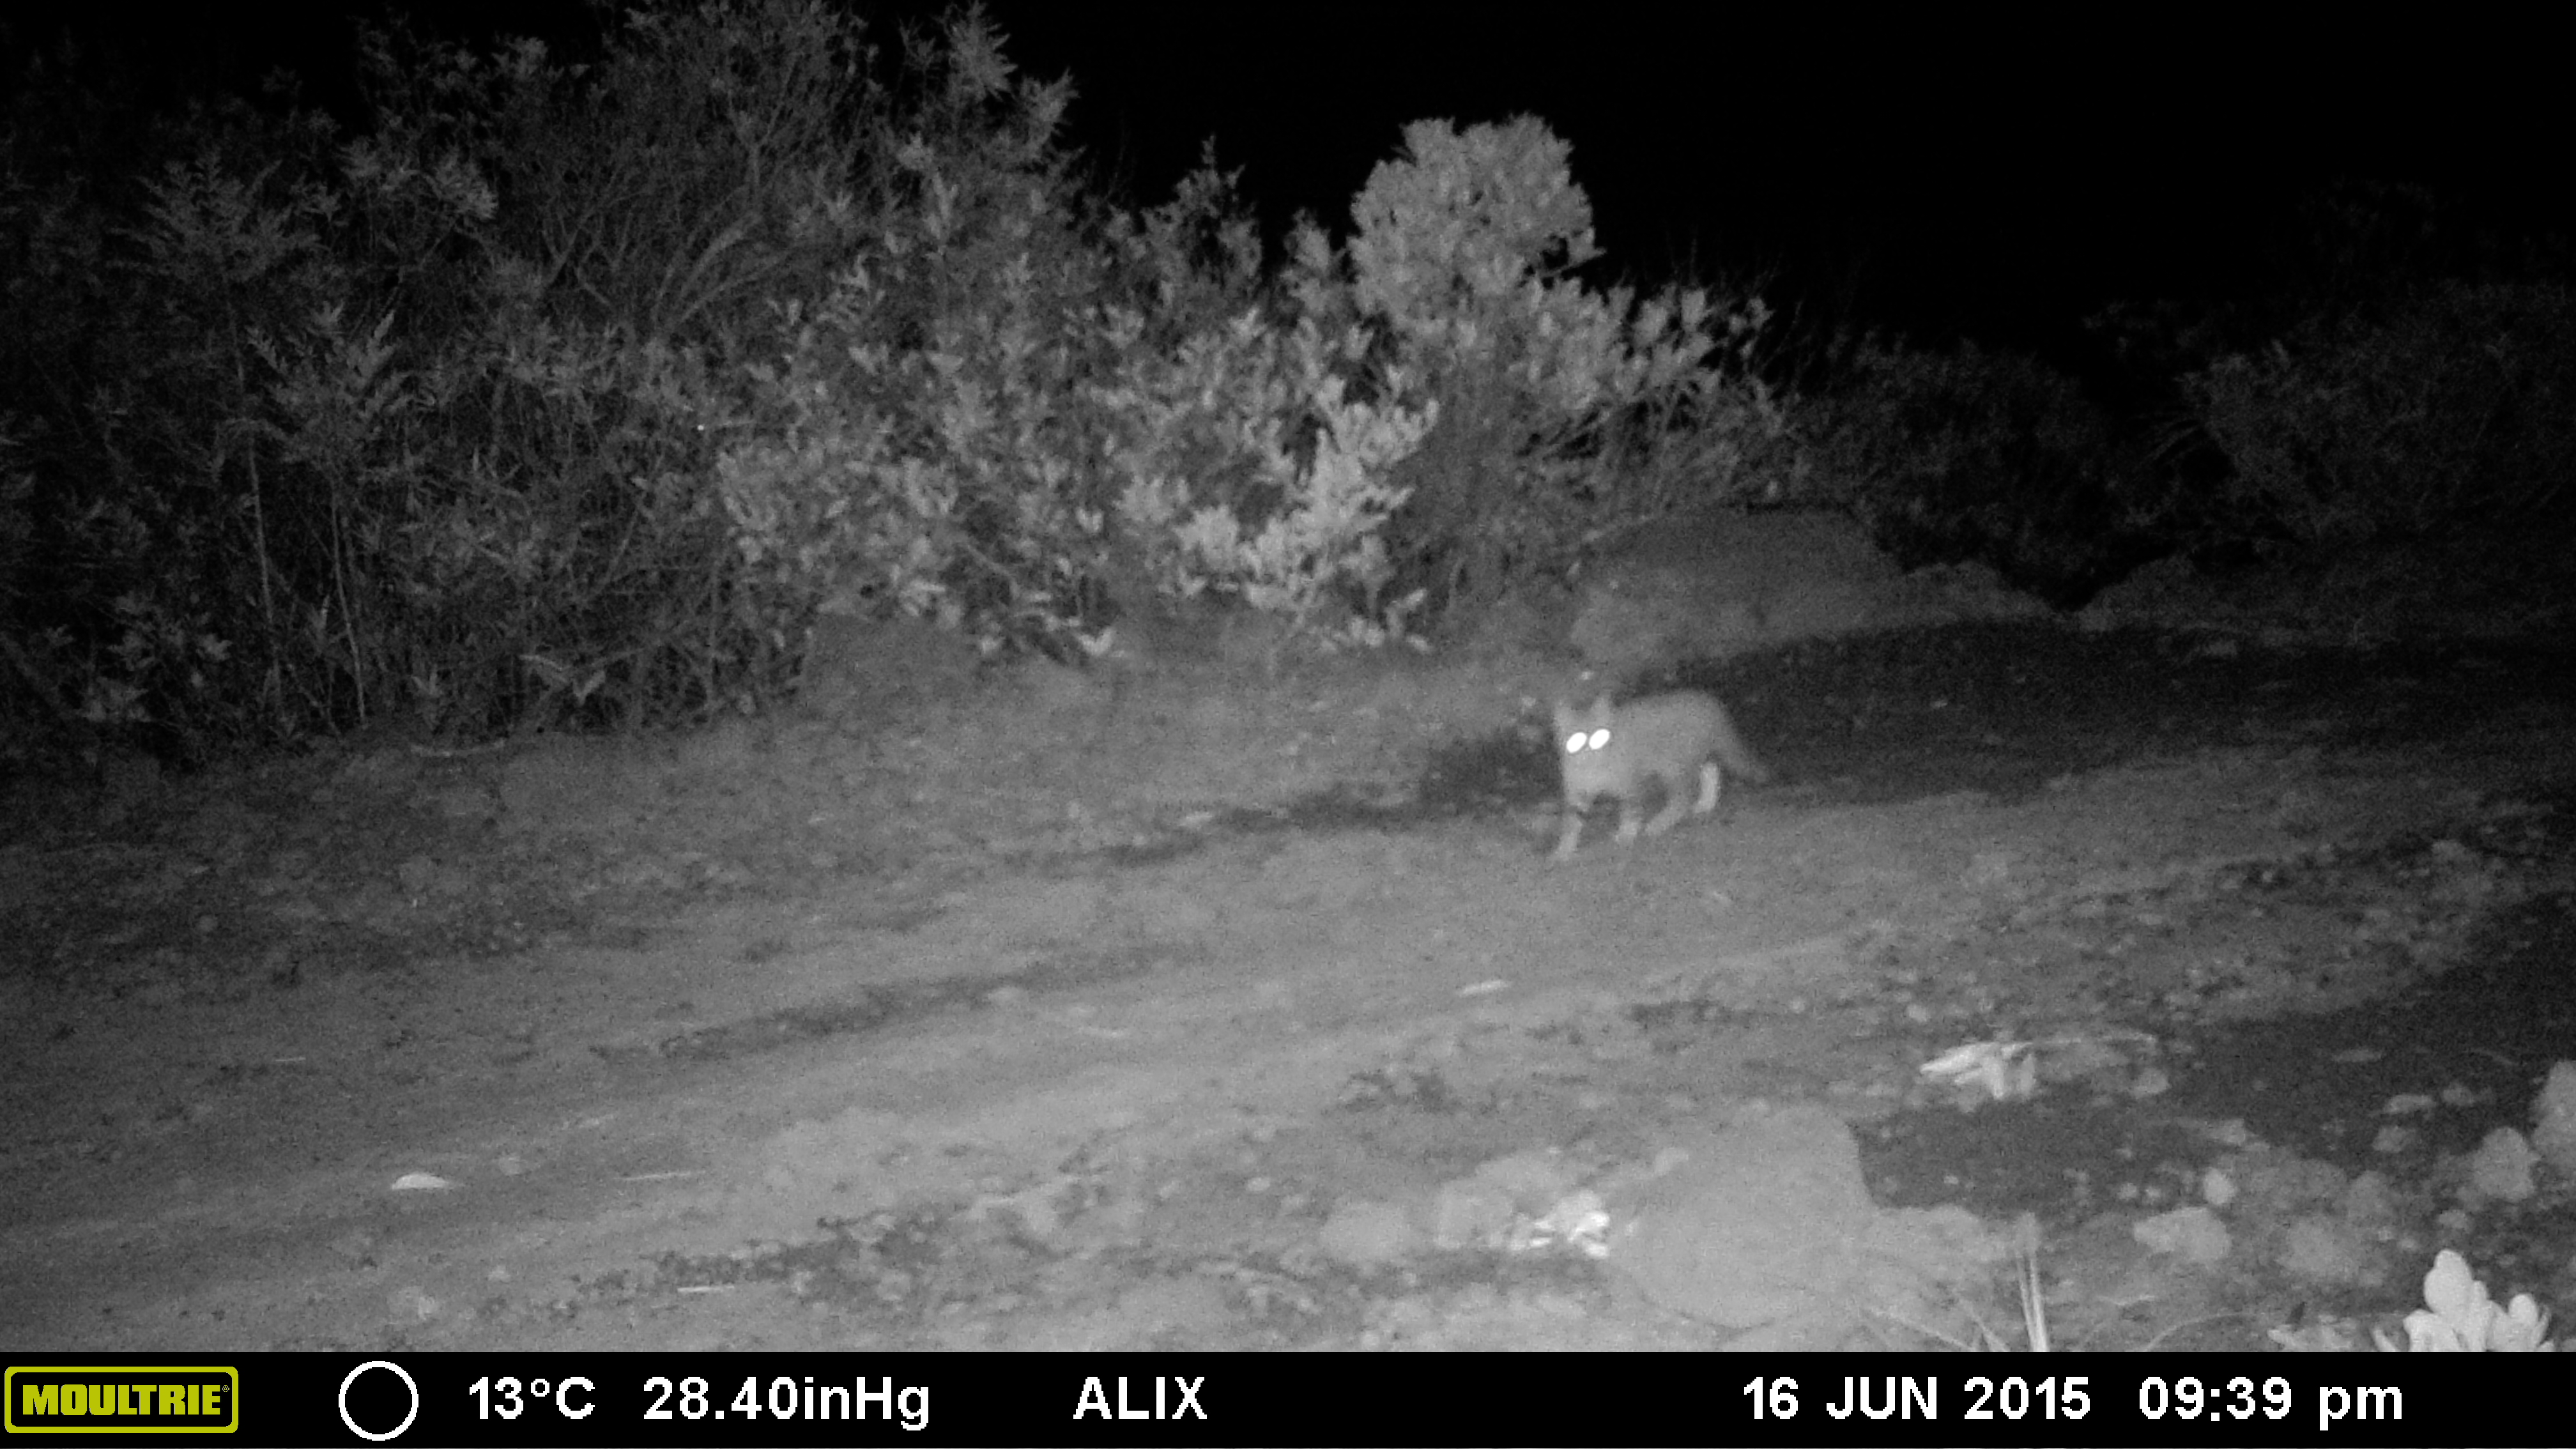cat: (1529, 681, 1796, 867)
